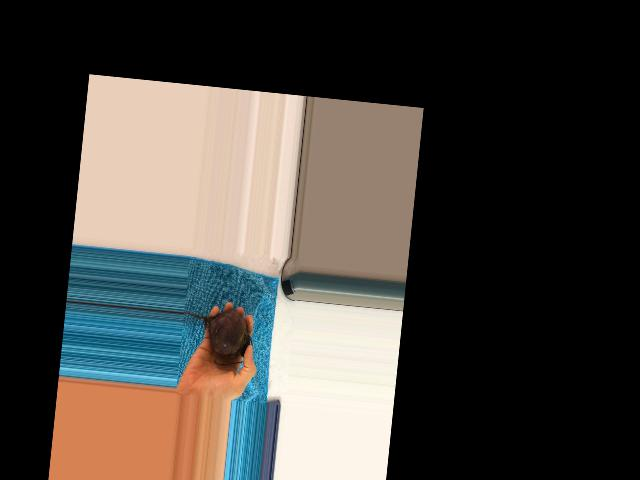beet: (178, 304, 256, 367)
